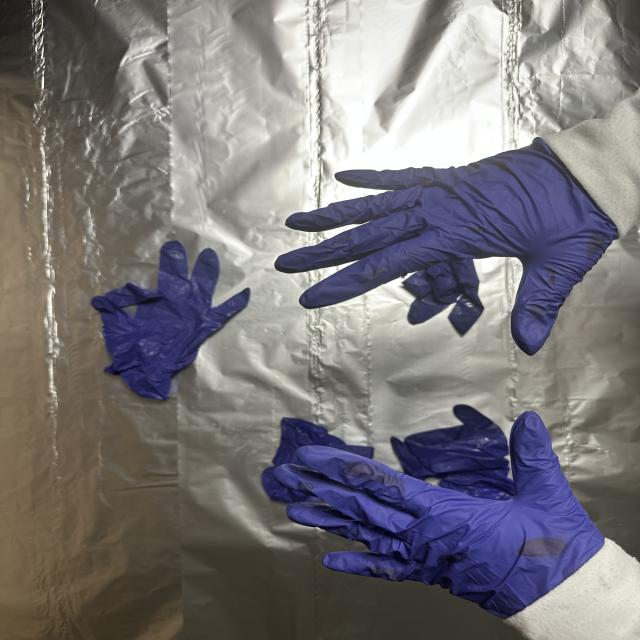gloves_contaminated: (276, 142, 617, 354), (275, 412, 604, 618)
